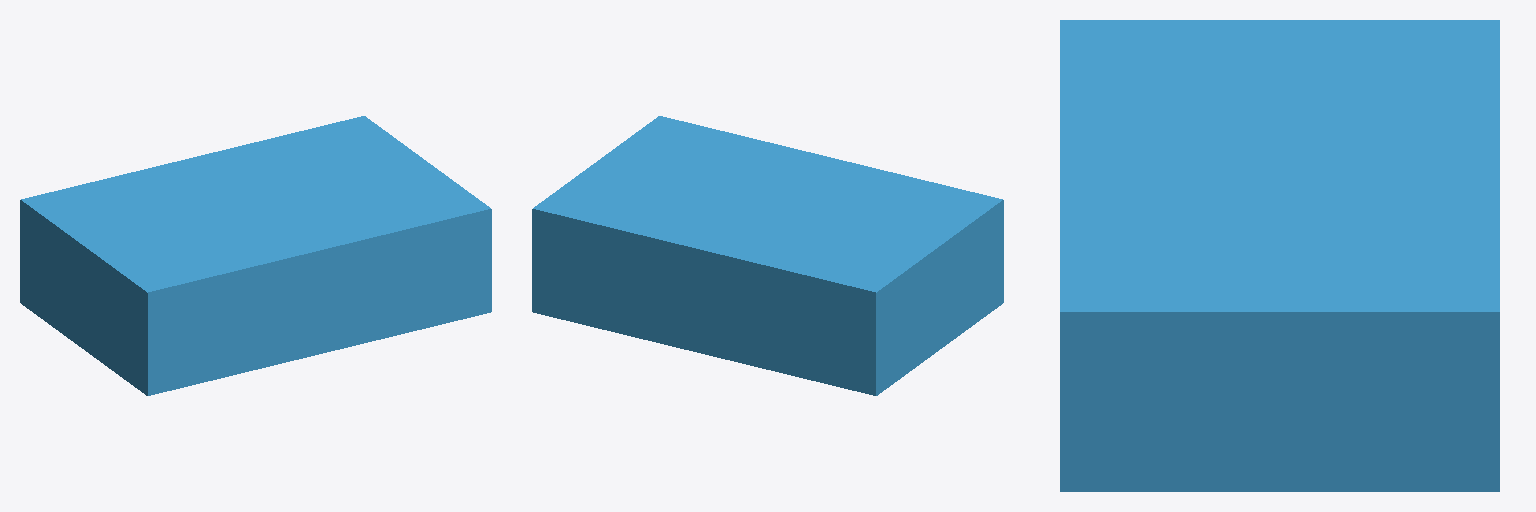
URDF robot description (tondeuse):
<?xml version="1.0" encoding="utf-8"?>
<!-- =================================================================================== -->
<!-- |    This document was autogenerated by xacro from base_link.urdf.xacro           | -->
<!-- |    EDITING THIS FILE BY HAND IS NOT RECOMMENDED                                 | -->
<!-- =================================================================================== -->
<robot name="tondeuse">
  <link name="base_footprint"/>
  <joint name="base_joint" type="fixed">
    <parent link="base_footprint"/>
    <child link="base_link"/>
    <origin rpy="0 0 0" xyz="0 0 0"/>
  </joint>
  <!-- base_link -->
  <link name="base_link">
    <!-- pose and inertial -->
    <inertial>
      <mass value="5"/>
      <inertia ixx="0.13" ixy="0.0" ixz="0.0" iyy="0.21" iyz="0.0" izz="0.13"/>
      <origin rpy="0 0 0" xyz="0 0 0"/>
    </inertial>
    <!-- body -->
    <collision name="collision_chassis">
      <origin rpy="0 0 0" xyz="0 0 0"/>
      <geometry>
        <box size="0.555 0.355 0.16" />
      </geometry>
    </collision>
    <visual>
      <origin rpy="0 0 0" xyz="0 0 0 "/>
      <geometry>
        <box size="0.555 0.355 0.16" />
      </geometry>
    </visual>
  </link>
</robot>

--- What the picture shows (computed from the rendered views, not written in the file) ---
3 views of the same robot in one strip: view 1: azimuth 30°, elevation 25°; view 2: azimuth 150°, elevation 25°; view 3: azimuth 270°, elevation 25° (orthographic).
Robot: tondeuse — 2 links, 1 joints (1 fixed); root link base_footprint; default pose: every joint at zero.
Links seen in each view (by area): view 1: base_link; view 2: base_link; view 3: base_link.
Boxes of the visible links, x1,y1,x2,y2 form: base_link: [20, 116, 491, 395]; base_link: [532, 116, 1003, 395]; base_link: [1060, 20, 1499, 491].
Bounding box of the posed robot: 0.555 × 0.355 × 0.16 m (x, y, z).
Geometry: primitives only (box / cylinder / sphere), no mesh files.